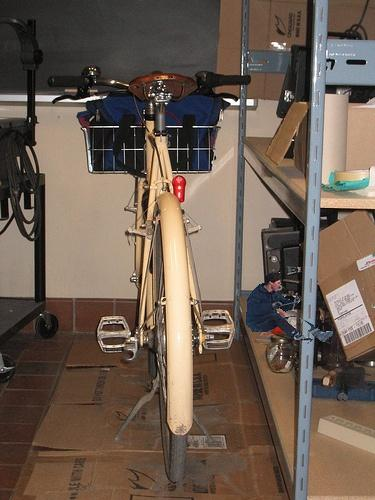tampered: (247, 274, 333, 342)
